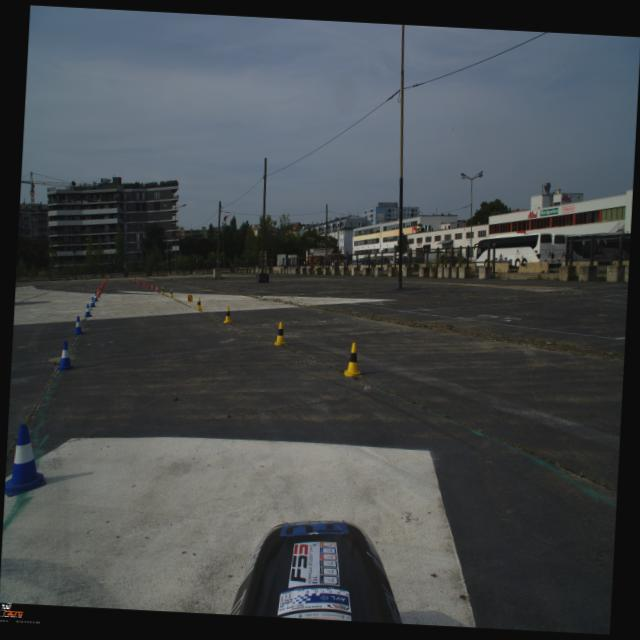blue_cone: (5, 423, 50, 499), (56, 342, 77, 372), (73, 316, 85, 336), (84, 304, 92, 318), (90, 297, 96, 307), (94, 292, 98, 302)
large_orange_cone: (134, 277, 136, 283)
orange_cone: (156, 284, 160, 292), (96, 290, 100, 298), (151, 284, 155, 290), (146, 282, 150, 288), (100, 284, 104, 290), (98, 288, 101, 295), (100, 286, 102, 293), (144, 282, 146, 288), (138, 280, 140, 286), (142, 280, 144, 286), (136, 280, 138, 284), (136, 280, 138, 284)
yellow_cone: (344, 342, 364, 378), (274, 322, 288, 346), (224, 306, 232, 324), (195, 298, 202, 310), (169, 288, 174, 298), (188, 294, 193, 302), (161, 286, 165, 294)
